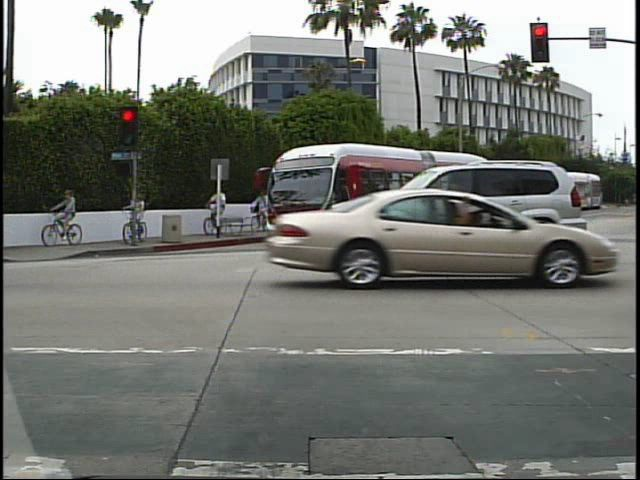person: (124, 192, 151, 241)
